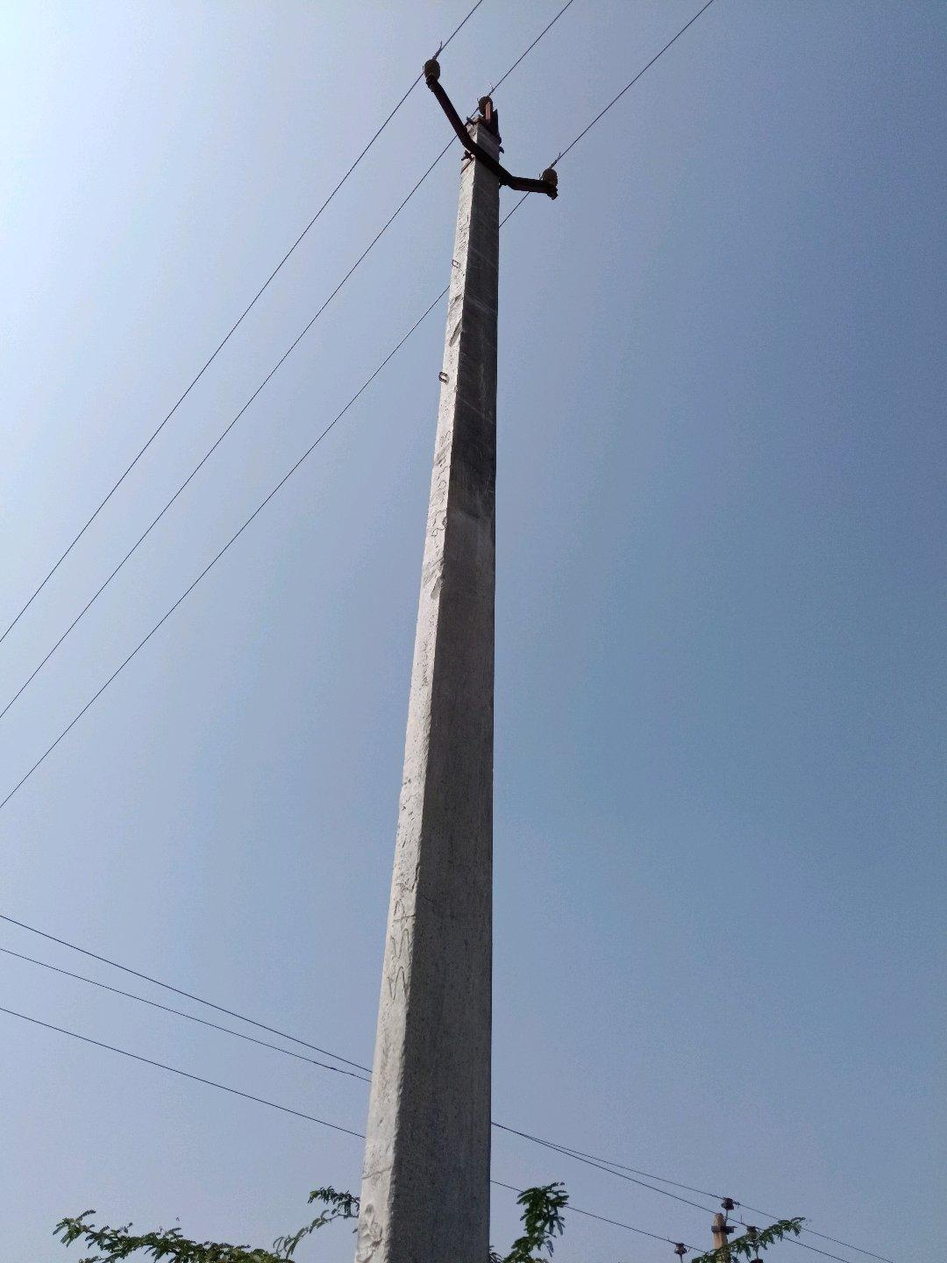{"0" "insulator", "1" "pole", "2" "crossarm", "3" "conductor", "4" "street_: (357, 61, 559, 1262), (615, 100, 617, 102)
